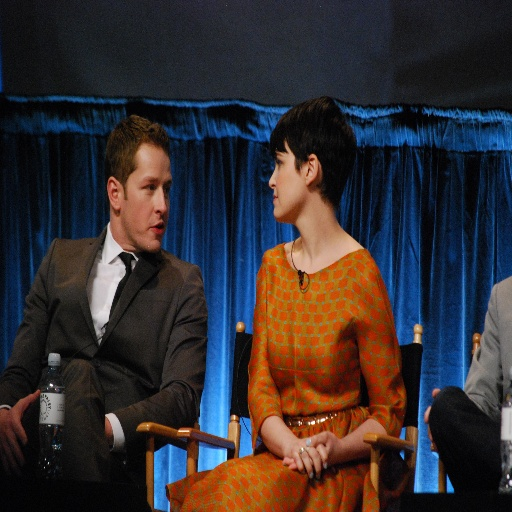hand: (0, 390, 38, 474), (282, 430, 339, 472), (284, 435, 328, 482), (423, 387, 440, 452)
